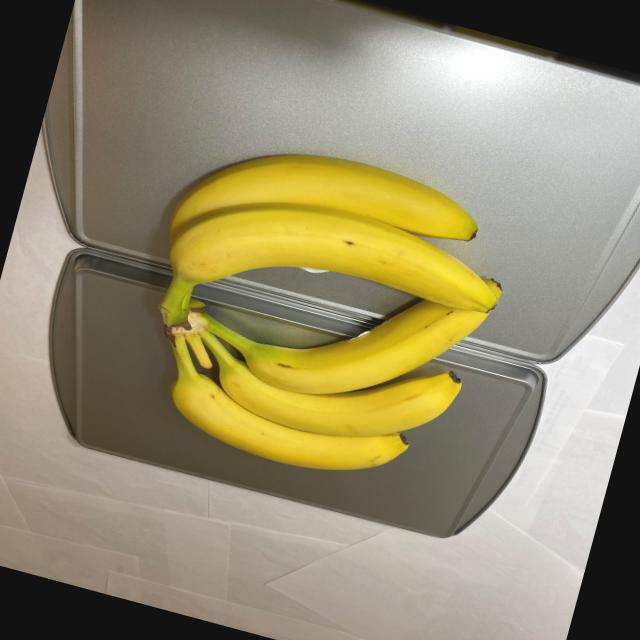banana: (109, 113, 522, 506)
